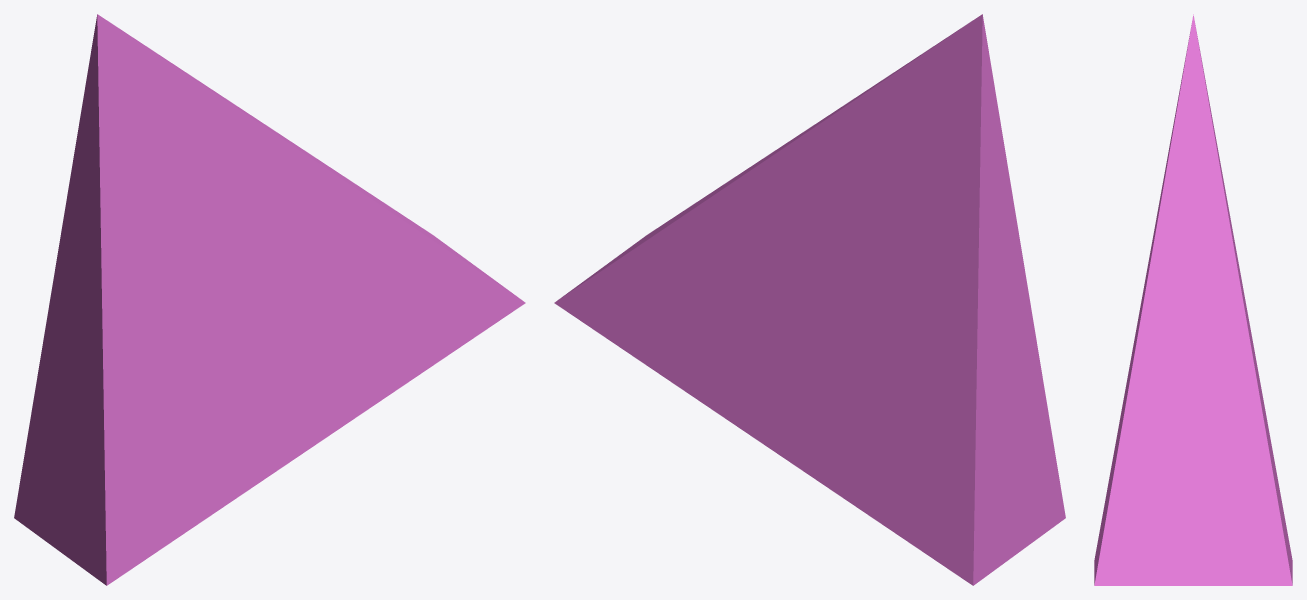
The model's file is rectangle wall.fbx.
The picture shows the model from 3 angles, left to right: view 1: azimuth 30°, elevation 25°; view 2: azimuth 150°, elevation 25°; view 3: azimuth 270°, elevation 25°; orthographic projection. The views are drawn at different scales.
Visible parts, largest first — view 1: rectangle; view 2: rectangle; view 3: rectangle.
Part boxes in pixels (x1,y1,x2,y2): rectangle: [14, 14, 525, 585]; rectangle: [554, 14, 1065, 585]; rectangle: [1094, 14, 1292, 585].
Bounding box in the file's own units: 2 × 2.41 × 0.7656.
